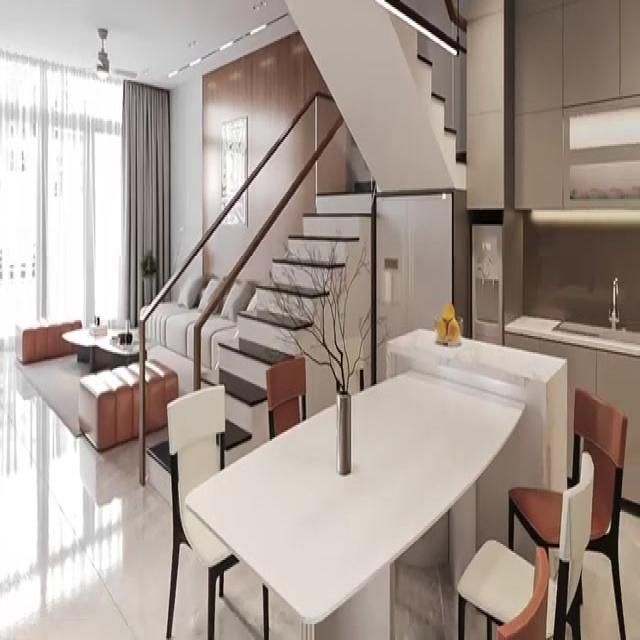obstacle: (184, 368, 526, 638), (165, 384, 269, 638), (141, 270, 259, 393), (61, 324, 147, 372)
